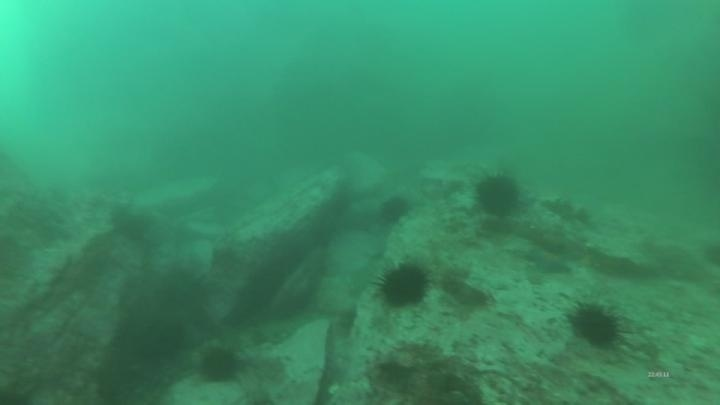echinus: (566, 298, 627, 352), (155, 265, 212, 319), (374, 259, 432, 311), (472, 170, 524, 219), (196, 343, 243, 386), (108, 204, 153, 244), (377, 193, 413, 227)
holothurian: (539, 194, 594, 227)
starfish: (525, 246, 575, 277)
